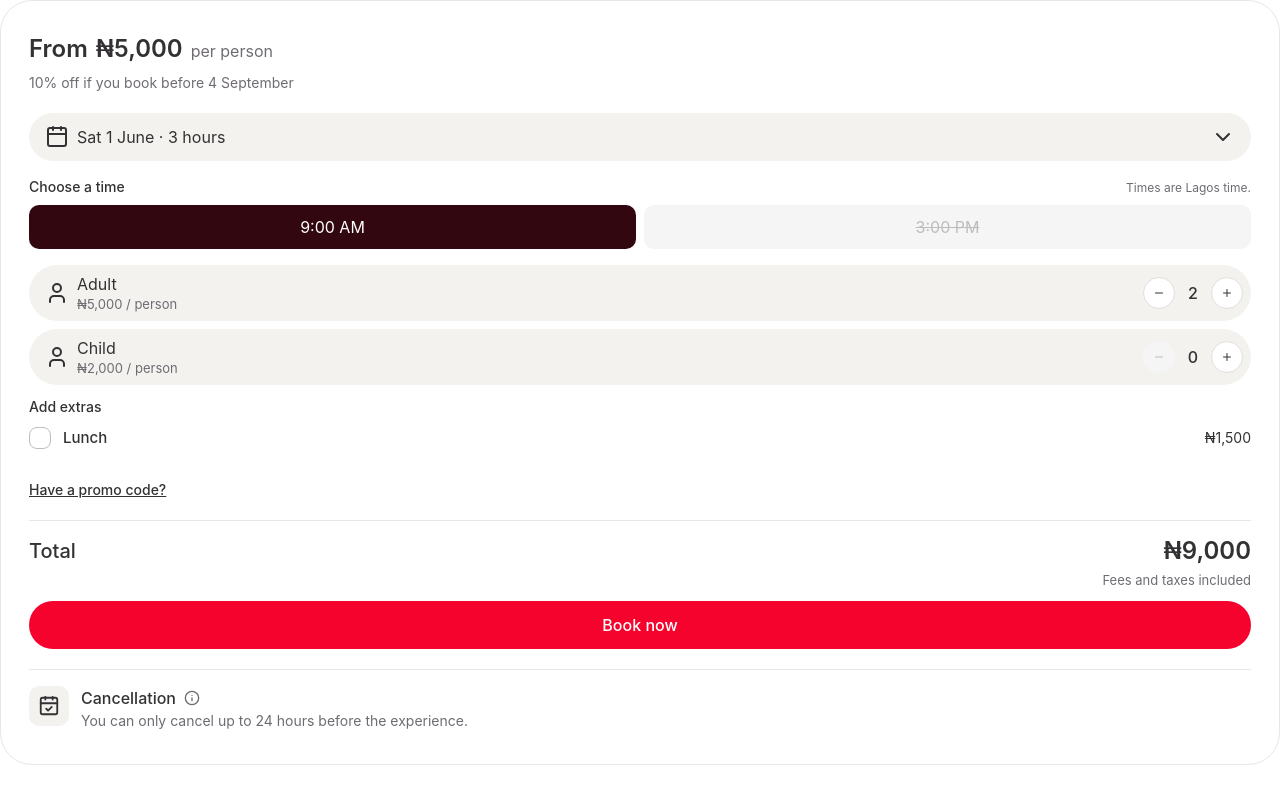
Test: BookingPanelView › opens the calendar from the date field and hides the times behind it
Click the button with aria-label "Date:": (640, 137) [29,113,1251,161]
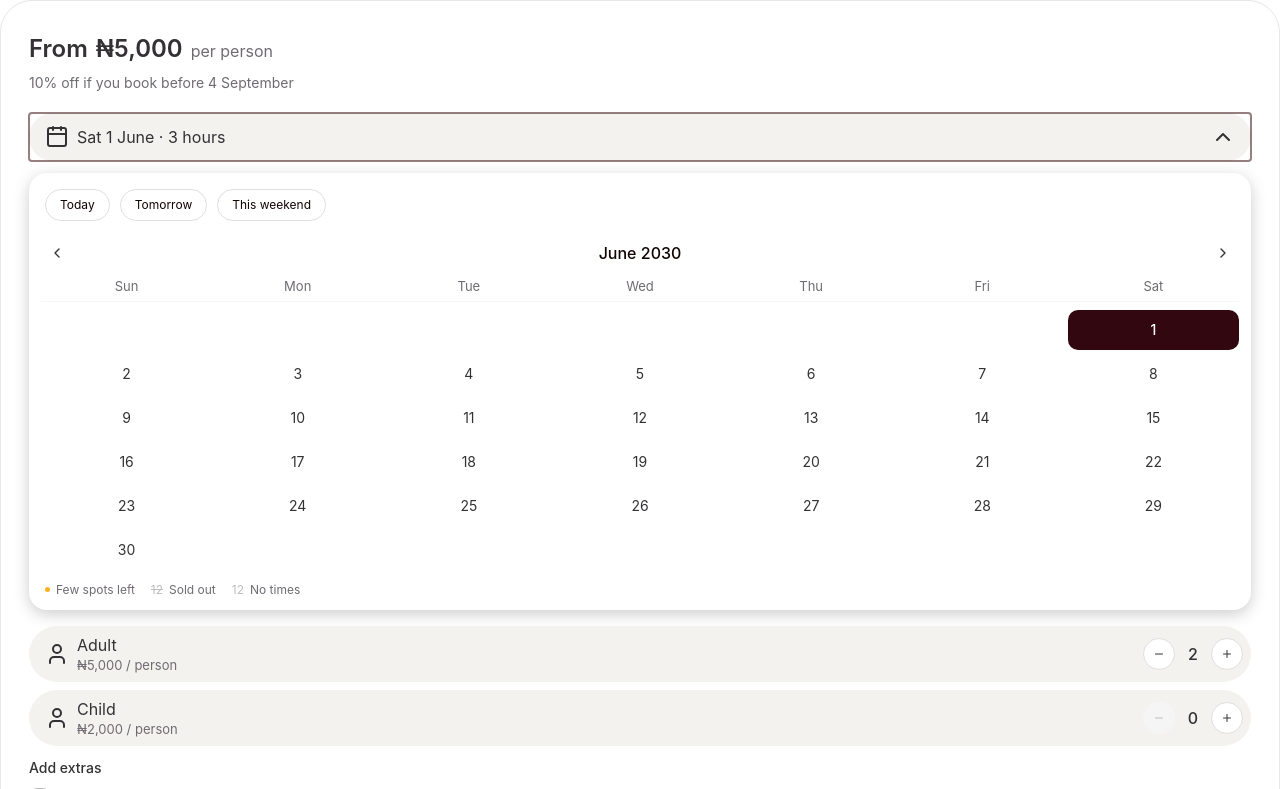
Check: the element named "Pick a date" is shown, box [29,173,1251,610]
Check: the text "Choose a time" is gone
